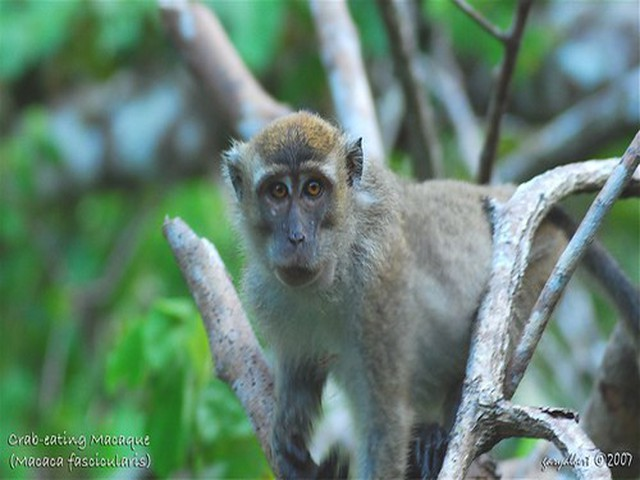Monkey: (223, 110, 492, 452)
